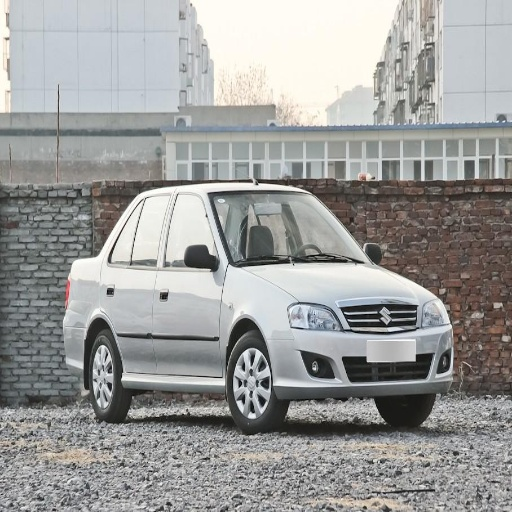back_right_door: (102, 192, 172, 375)
front_bumper: (267, 301, 452, 397)
front_right_door: (156, 192, 223, 376)
front_right_light: (287, 300, 342, 330)
hood: (251, 262, 430, 308)
